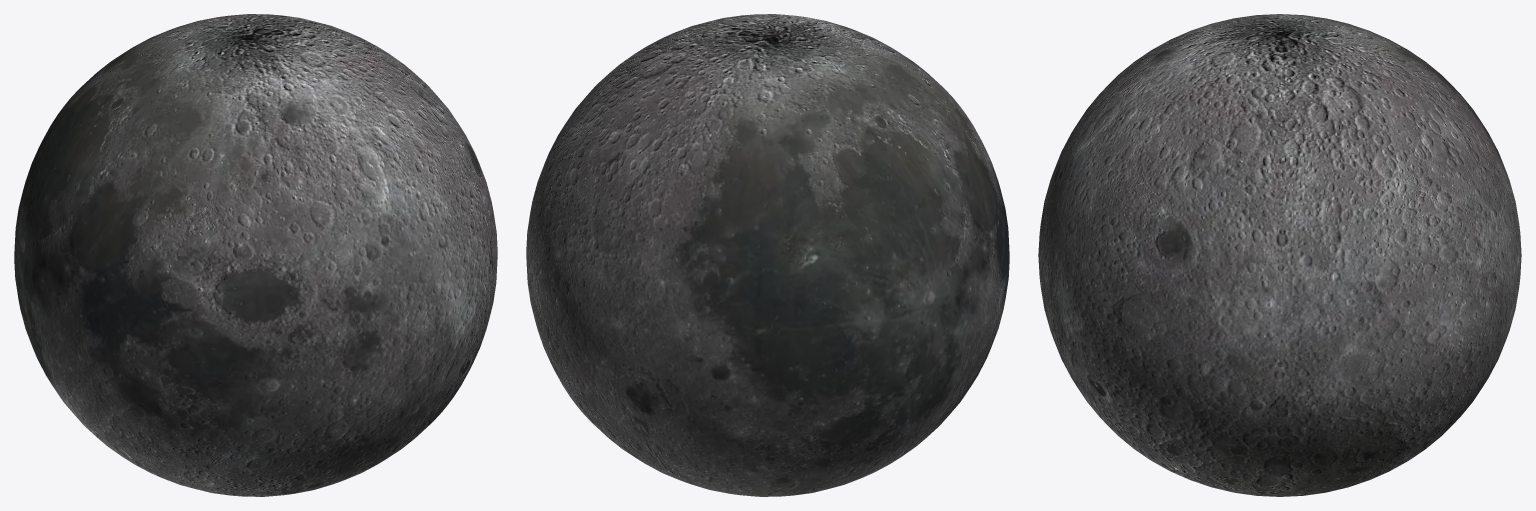
The model's file is Moon-transformed.glb.
The picture shows the model from 3 angles, left to right: view 1: azimuth 30°, elevation 25°; view 2: azimuth 150°, elevation 25°; view 3: azimuth 270°, elevation 25°; orthographic projection.
Parts seen in each view (by area): view 1: Cube.008; view 2: Cube.008; view 3: Cube.008.
Part boxes in pixels (box(x1,y1,x2,y2)): Cube.008: box(14, 14, 497, 496); Cube.008: box(526, 14, 1009, 496); Cube.008: box(1038, 14, 1521, 496).
Size of the model in its own units: 1000 by 999 by 1000.
1 material, 1 textured.
